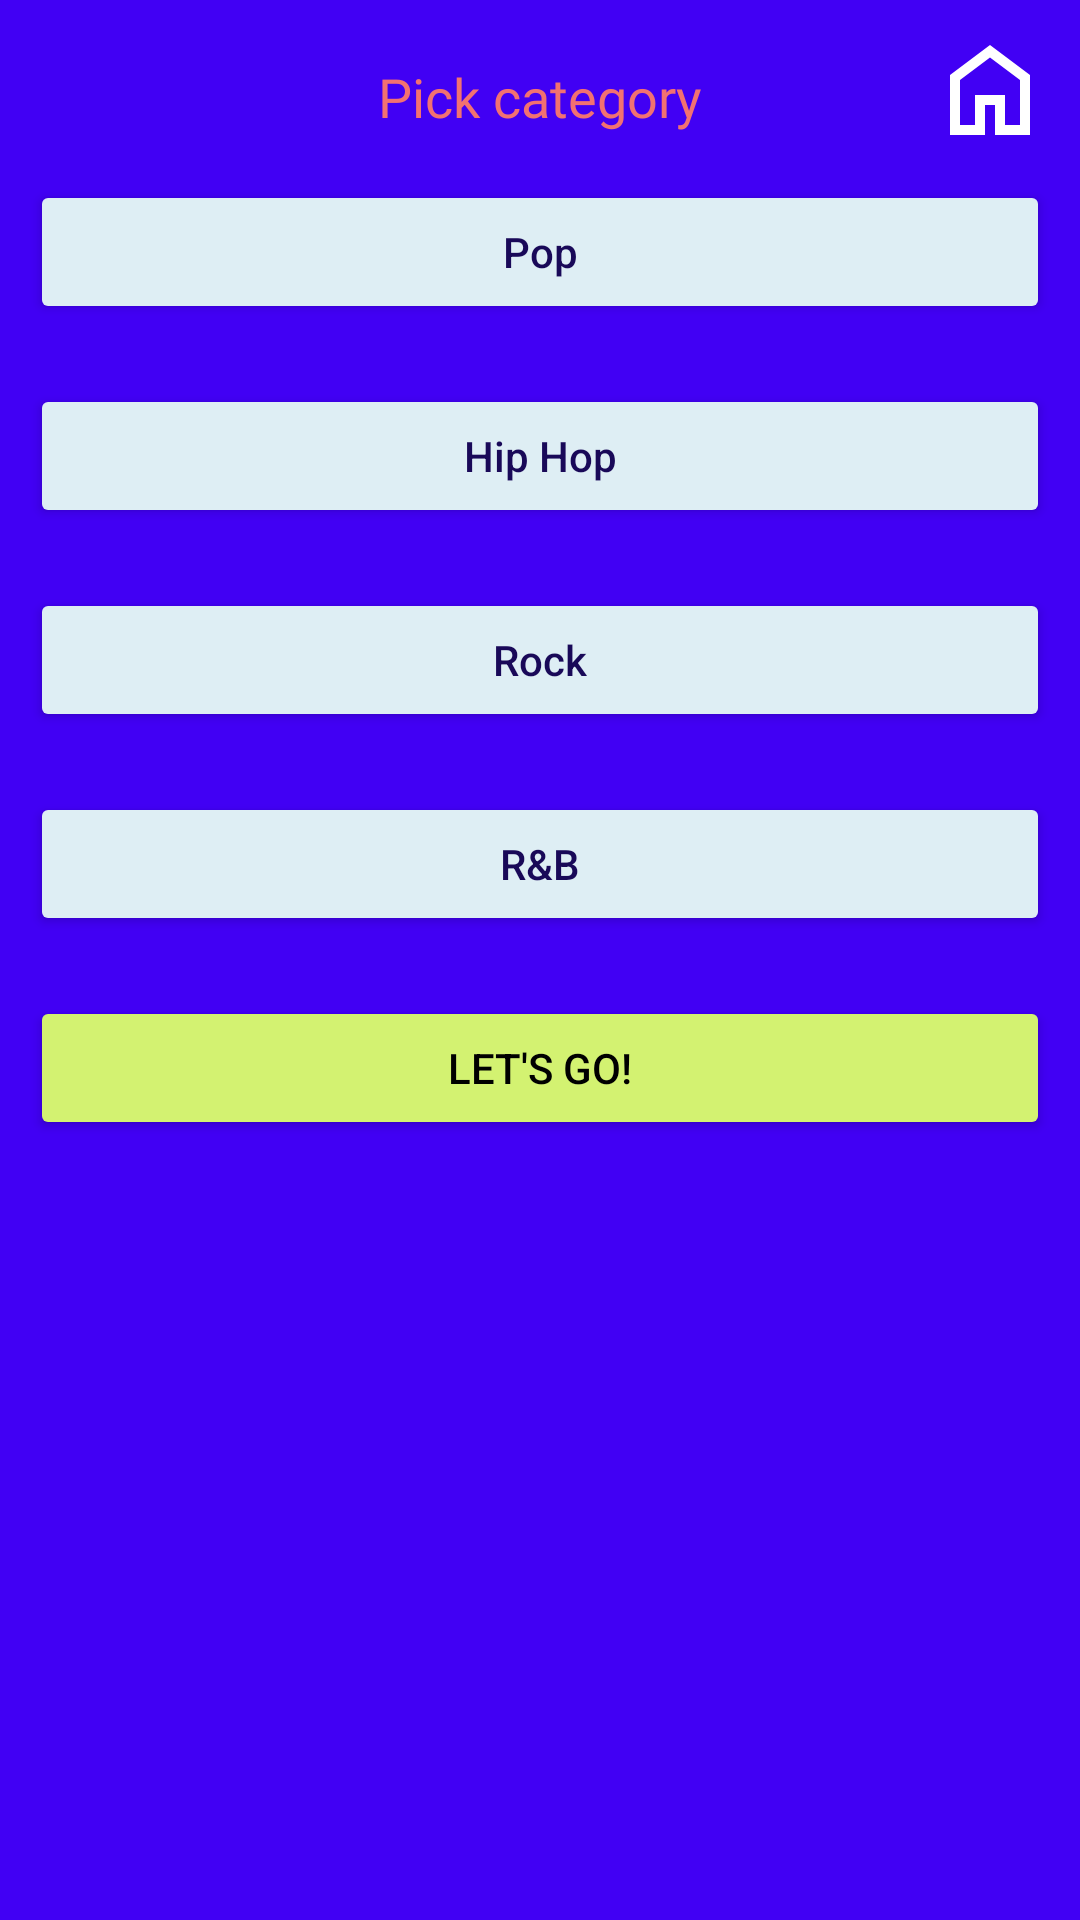

Icons on this 1080×1920 Android screen, each with the point to tap as (x,y):
home: (990,90)
